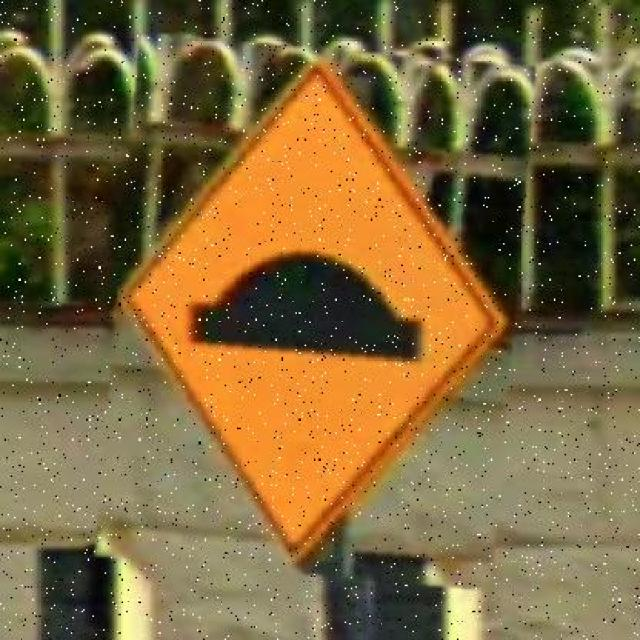Polisi Tidur: (104, 41, 524, 584)
